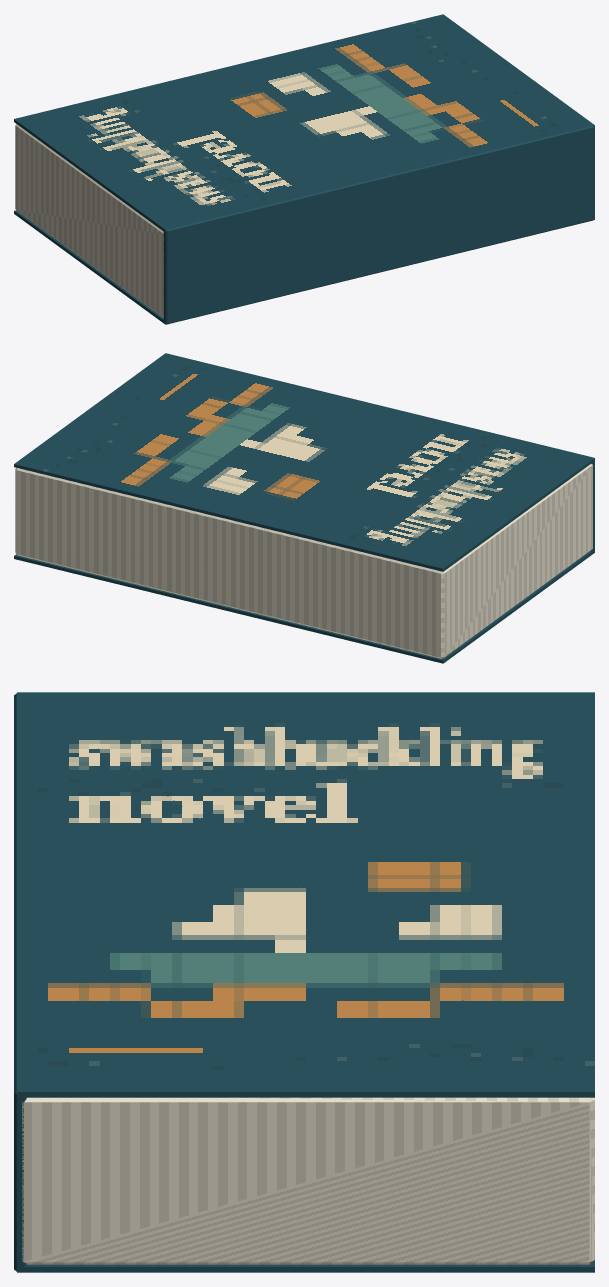
Rendered from novel_swash.glb.
3 views of the same model, one above another, from view 1: azimuth 30°, elevation 25°; view 2: azimuth 150°, elevation 25°; view 3: azimuth 270°, elevation 25° (orthographic). The views are drawn at different scales.
Parts seen in each view (by area): view 1: block_front, block_spine, block_pages, block_back; view 2: block_front, block_pages, block_back, block_spine; view 3: block_front, block_pages, block_back, block_spine.
Boxes of the visible parts, x1,y1,x2,y2 form: block_front: (14,14,594,231); block_spine: (163,124,594,324); block_pages: (15,124,163,317); block_back: (14,210,594,324); block_front: (14,353,594,571); block_pages: (15,464,592,658); block_back: (14,551,594,663); block_spine: (165,353,594,552); block_front: (17,692,594,1097); block_pages: (22,1097,594,1264); block_back: (17,1260,594,1272); block_spine: (14,693,26,1271).
Size of the model in its own units: 0.18 by 0.038 by 0.1106.
1 material, 1 textured.
